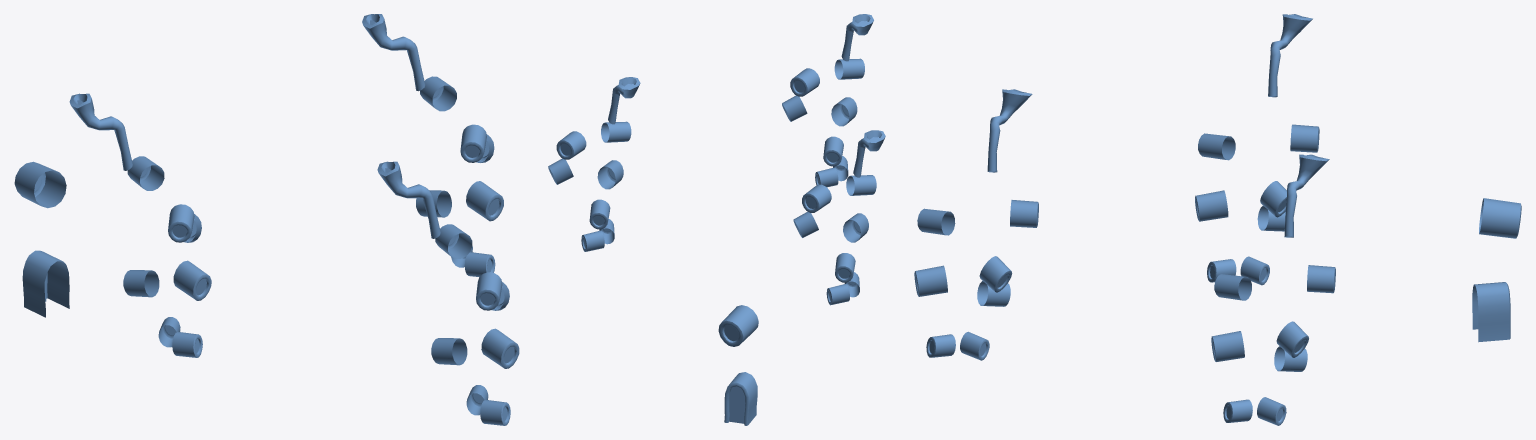
3 renders of one model, left to right at view 1: azimuth 30°, elevation 25°; view 2: azimuth 150°, elevation 25°; view 3: azimuth 270°, elevation 25°, orthographic. The views are drawn at different scales.
Parts seen in each view (by area): view 1: Object_8; view 2: Object_8; view 3: Object_8.
Part boxes in pixels (<box>): Object_8: <box>14,14,519,425</box>; Object_8: <box>548,14,885,425</box>; Object_8: <box>914,14,1521,425</box>.
Bounding box in the file's own units: 106 × 72.66 × 138.
